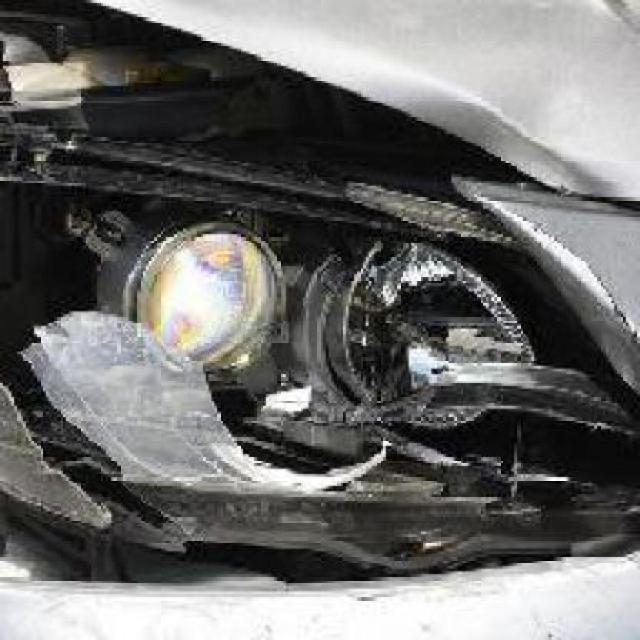damaged-head-light: (0, 128, 637, 594)
